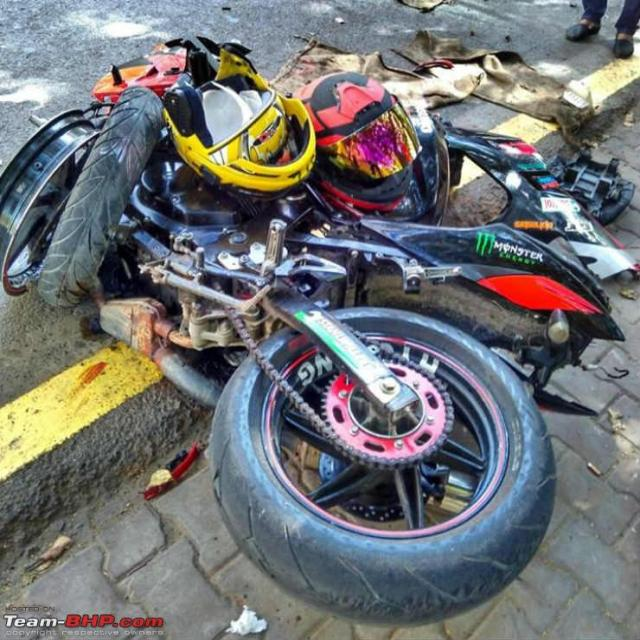accident: (0, 38, 622, 622)
